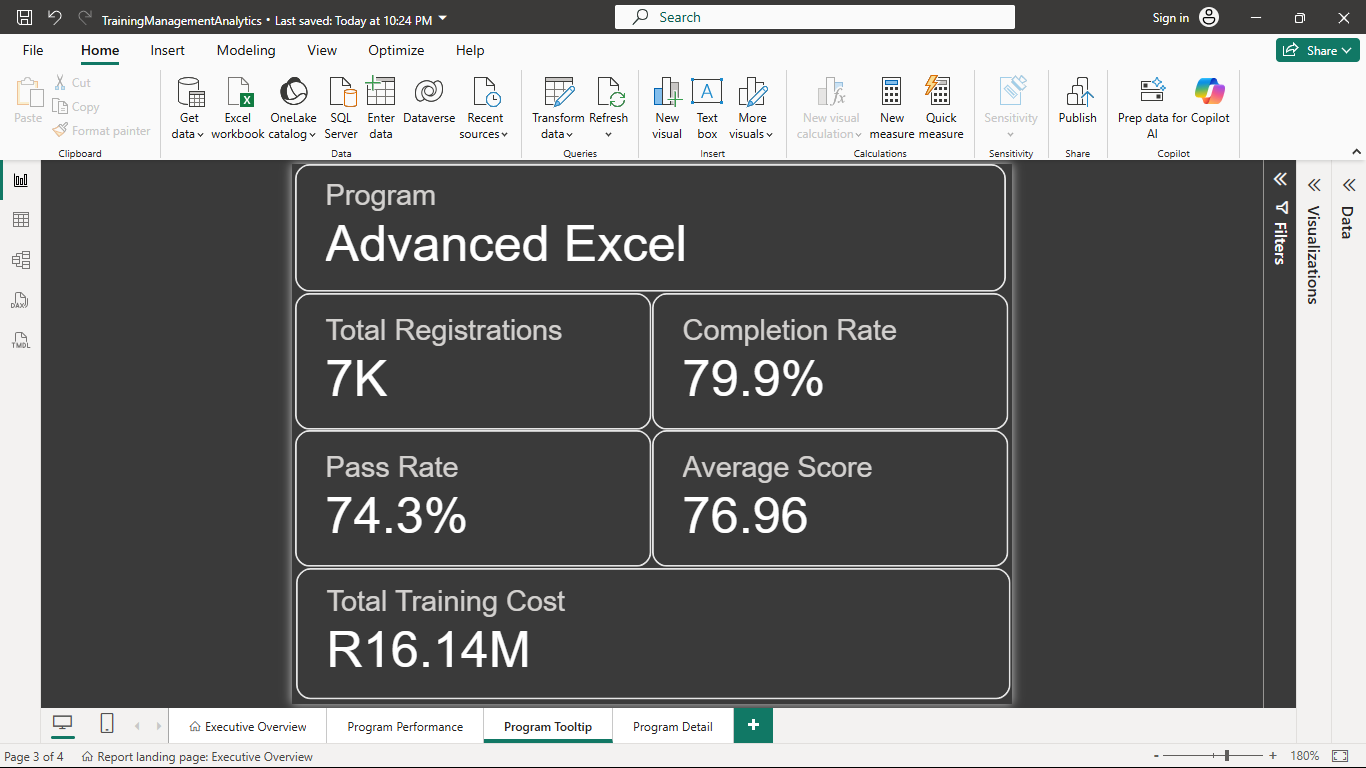

This screenshot's page, from the dashboard's own definition file:
{"tool":"powerbi","page":{"name":"Program Tooltip","canvas":[400,300],"ordinal":2},"visuals":[{"type":"cardVisual","fields":{"Data":["Min(DimProgram.ProgramName)"]},"box":[1.9,0,395.6,71.9],"z":0,"group":"g2"},{"type":"cardVisual","fields":{"Data":["FactTraining.Total Registrations"]},"box":[1.9,71.9,198.1,76.2],"z":0,"group":"g1"},{"type":"cardVisual","fields":{"Data":["FactTraining.Completion Rate"]},"box":[200,71.9,198.1,76.2],"z":1000,"group":"g1"},{"type":"cardVisual","fields":{"Data":["FactTraining.Total Training Cost"]},"box":[2.5,224.4,397.5,73.8],"z":1000,"group":"g2"},{"type":"group","id":"g1","title":"Group 1","box":[1.9,71.9,396.2,152.5],"z":2000,"group":"g2"},{"type":"cardVisual","fields":{"Data":["FactTraining.Pass Rate"]},"box":[1.9,148.1,198.1,76.2],"z":2000,"group":"g1"},{"type":"group","id":"g2","title":"Group 2","box":[1.9,0,398.1,298.1],"z":2001},{"type":"cardVisual","fields":{"Data":["FactTraining.Average Score"]},"box":[200,148.1,198.1,76.2],"z":3000,"group":"g1"}]}

Visuals, with their boxes on the page's 400x300 design canvas (x1, y1, x2, y2). These are canvas units, not pixel positions in the 1366x768 screenshot, which may show the page scaled, cropped or inside an application window:
cardVisual - Min(DimProgram.ProgramName): (2, 0, 398, 72)
cardVisual - FactTraining.Total Registrations: (2, 72, 200, 148)
cardVisual - FactTraining.Completion Rate: (200, 72, 398, 148)
cardVisual - FactTraining.Total Training Cost: (2, 224, 400, 298)
"Group 1" group: (2, 72, 398, 224)
cardVisual - FactTraining.Pass Rate: (2, 148, 200, 224)
"Group 2" group: (2, 0, 400, 298)
cardVisual - FactTraining.Average Score: (200, 148, 398, 224)
